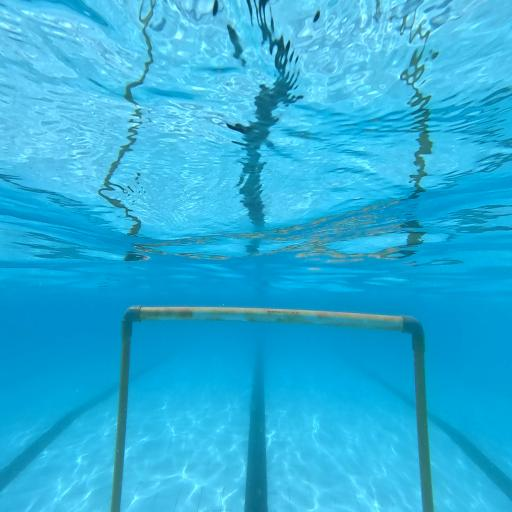gate: (111, 306, 434, 512)
